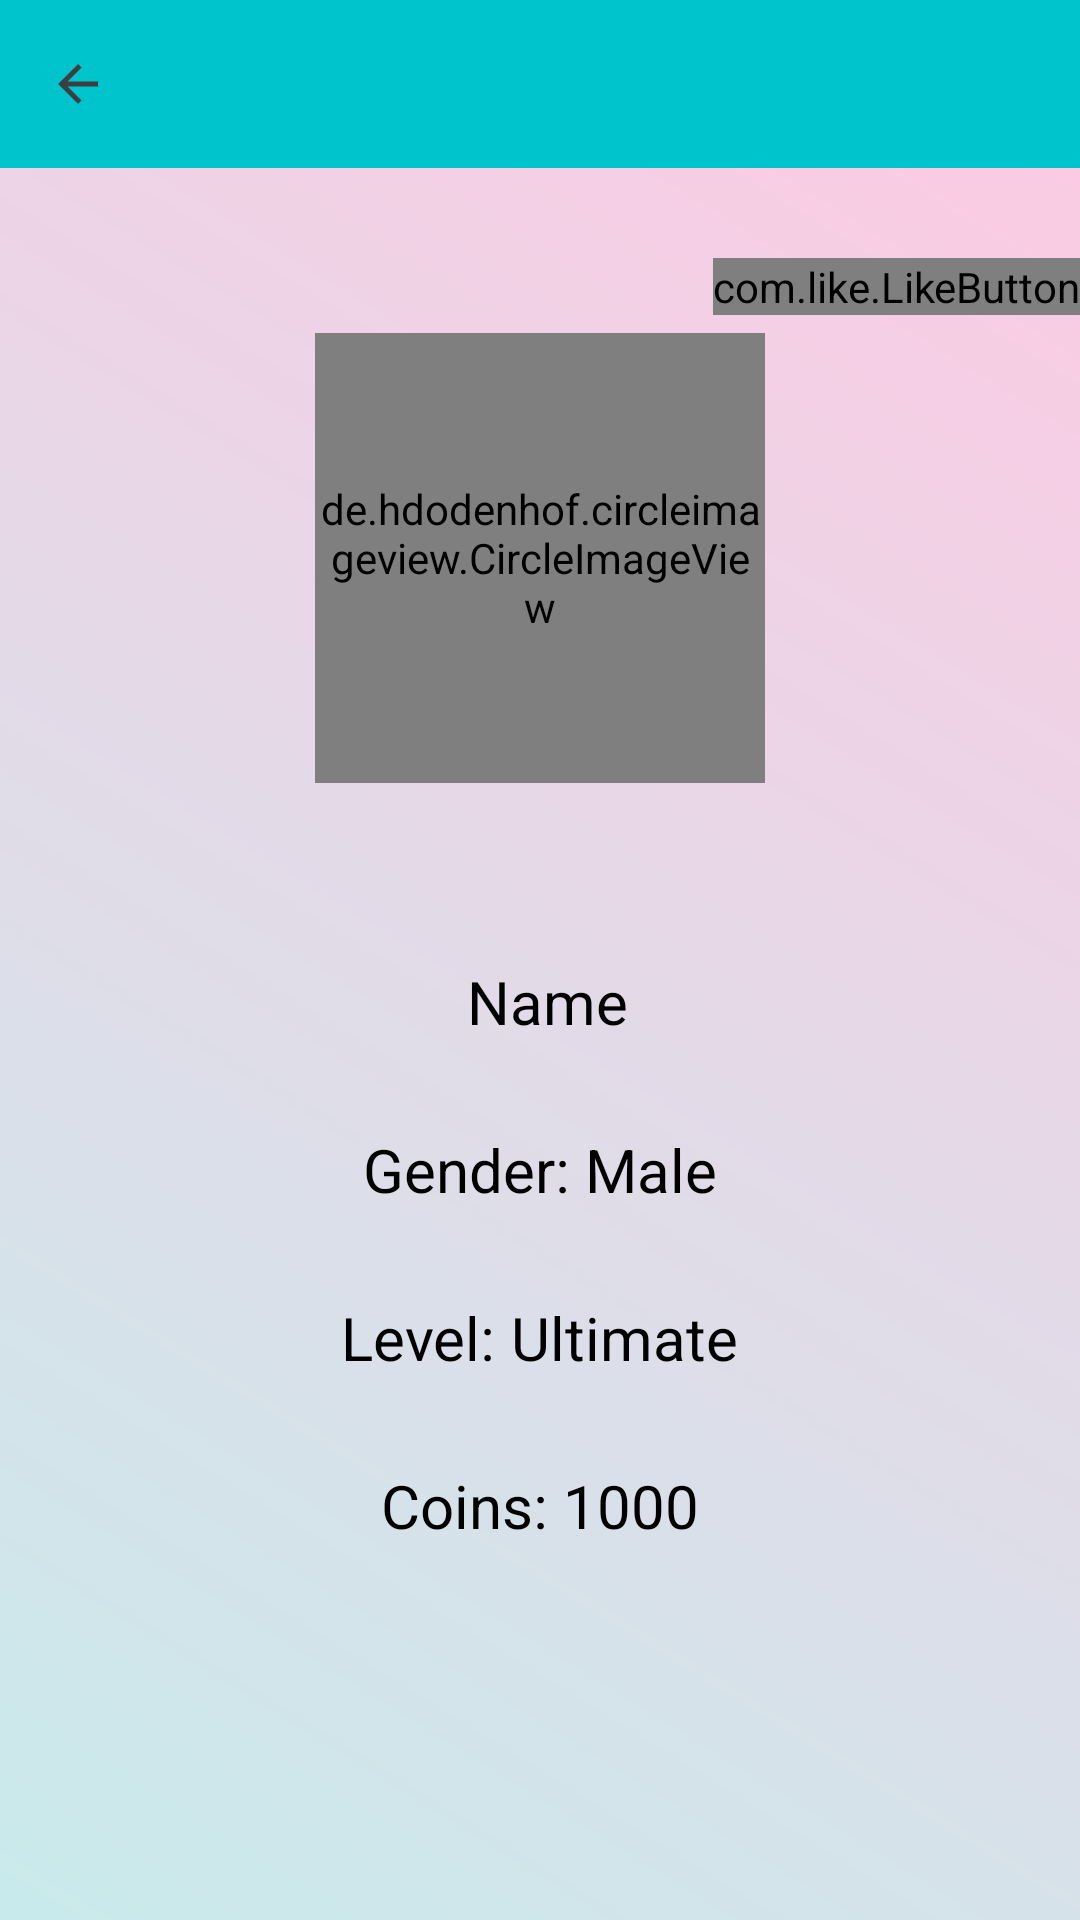

Icons on this 1080 x 1920 Android screen, each with its box as box(x1, y1, x2, y2):
arrow back: box(58, 64, 98, 104)
